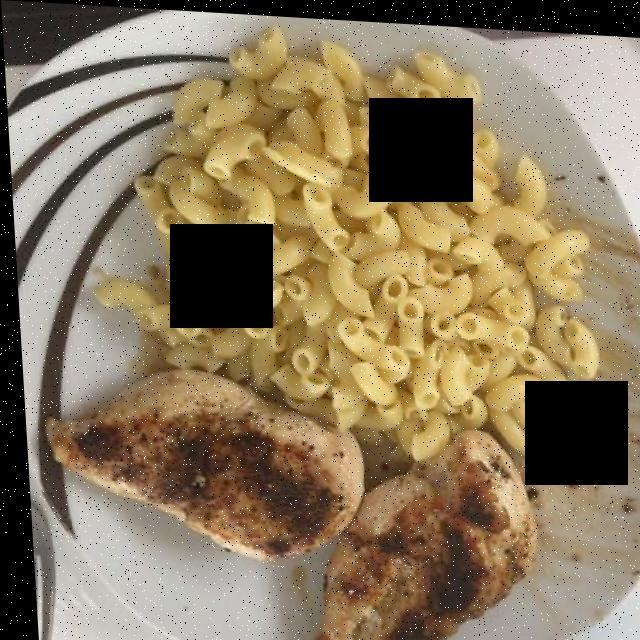chicken-breast: (40, 375, 521, 640)
pasta: (107, 37, 610, 461)
